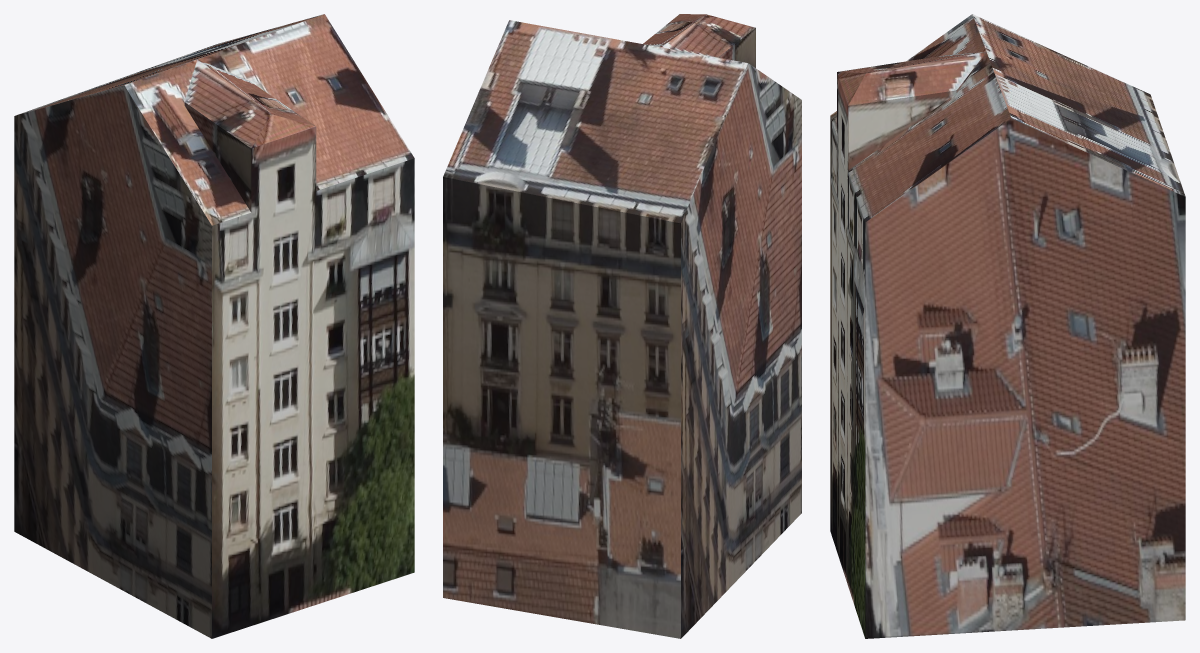
3 renders of one model, left to right at view 1: azimuth 30°, elevation 25°; view 2: azimuth 150°, elevation 25°; view 3: azimuth 270°, elevation 25°, orthographic.
Parts seen in each view (by area): view 1: Z_UP; view 2: Z_UP; view 3: Z_UP.
Part boxes in pixels (x1,y1,x2,y2): Z_UP: (14, 14, 414, 638); Z_UP: (443, 14, 801, 638); Z_UP: (830, 14, 1185, 638).
Bounding box in the file's own units: 14.93 × 28.13 × 17.69.
Materials: 2 (1 with a texture image).
